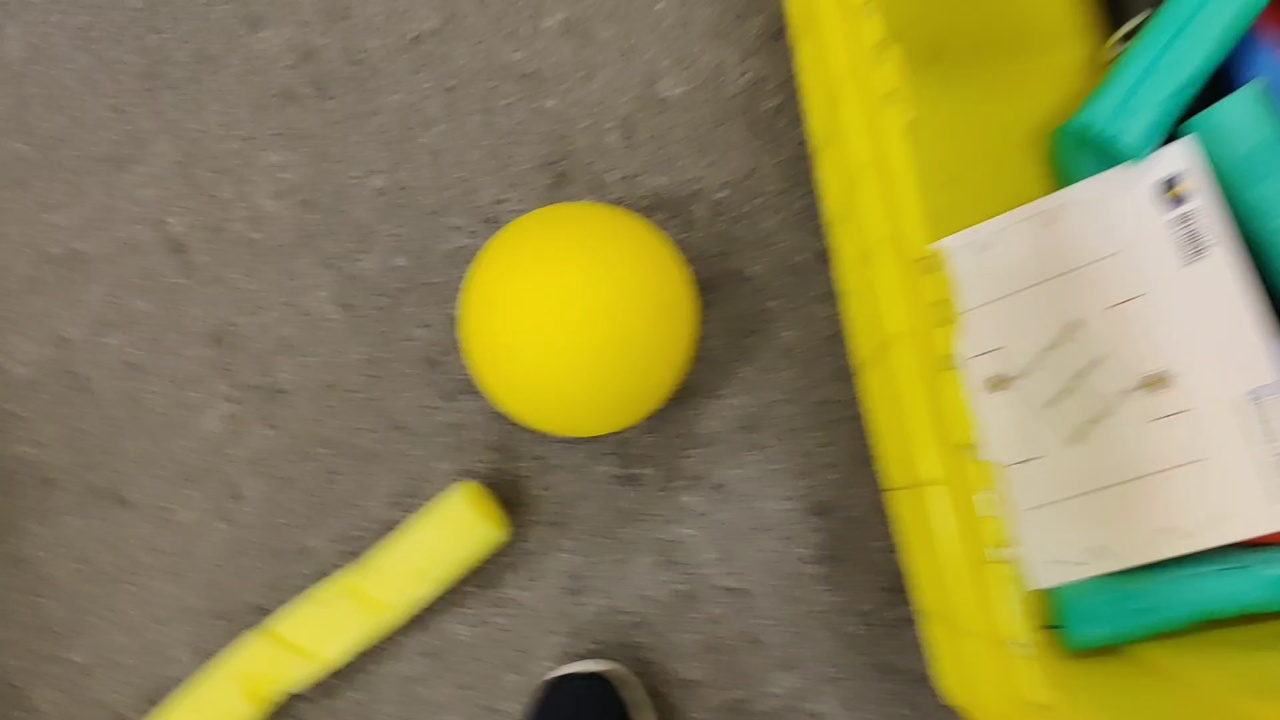Ball: (457, 200, 702, 432)
